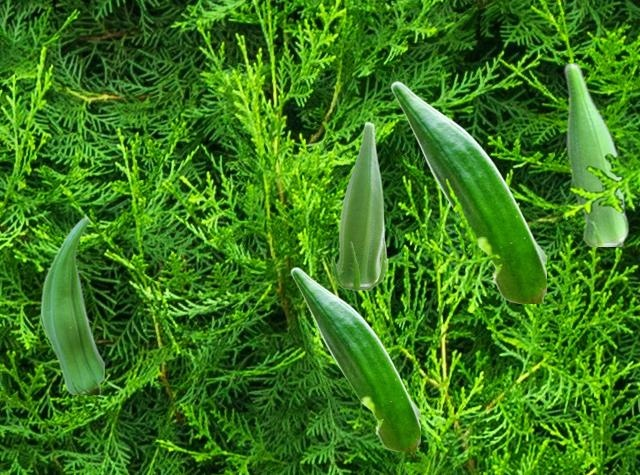okra: (390, 81, 545, 302), (290, 267, 419, 450), (563, 62, 627, 245), (40, 215, 103, 393), (331, 121, 386, 290)
